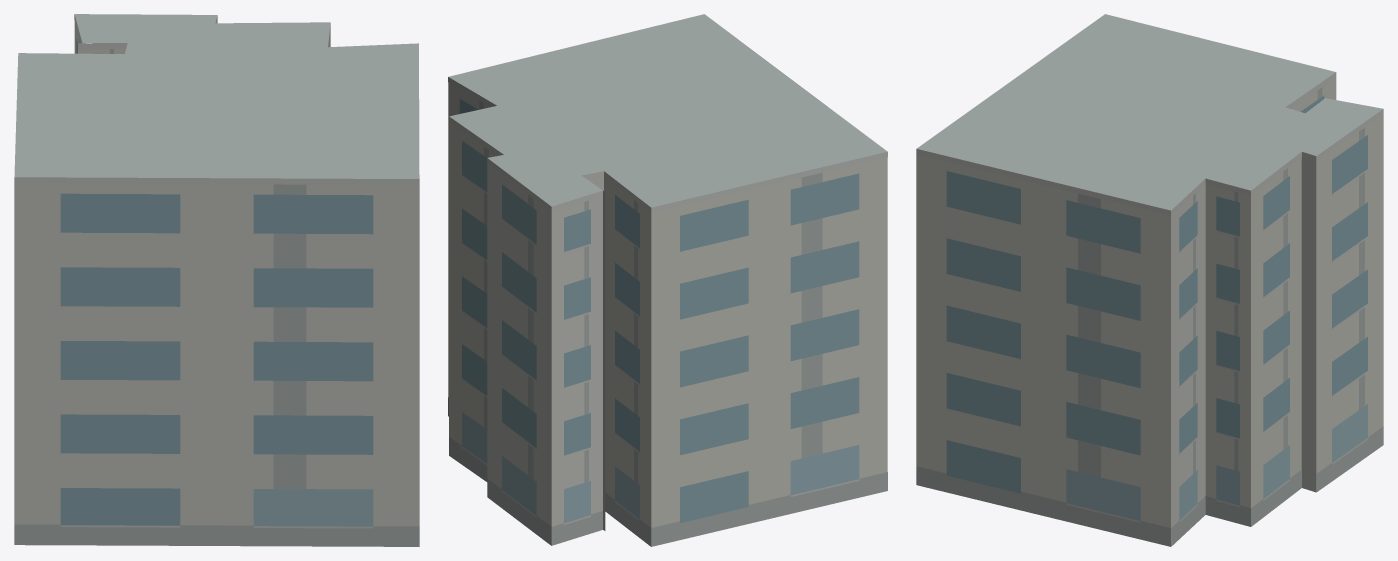
Rendered from survey-upis-32687112.glb.
3 views of the same model, side by side, from view 1: azimuth 30°, elevation 25°; view 2: azimuth 150°, elevation 25°; view 3: azimuth 270°, elevation 25° (orthographic). The views are drawn at different scales.
Parts seen in each view (by area): view 1: survey-upis-32687112.tmp; view 2: survey-upis-32687112.tmp; view 3: survey-upis-32687112.tmp.
Part boxes in pixels (x1,y1,x2,y2): survey-upis-32687112.tmp: (14, 14, 419, 546); survey-upis-32687112.tmp: (448, 14, 887, 546); survey-upis-32687112.tmp: (916, 14, 1383, 546).
Size of the model in its own units: 18.68 by 14.9 by 18.76.
